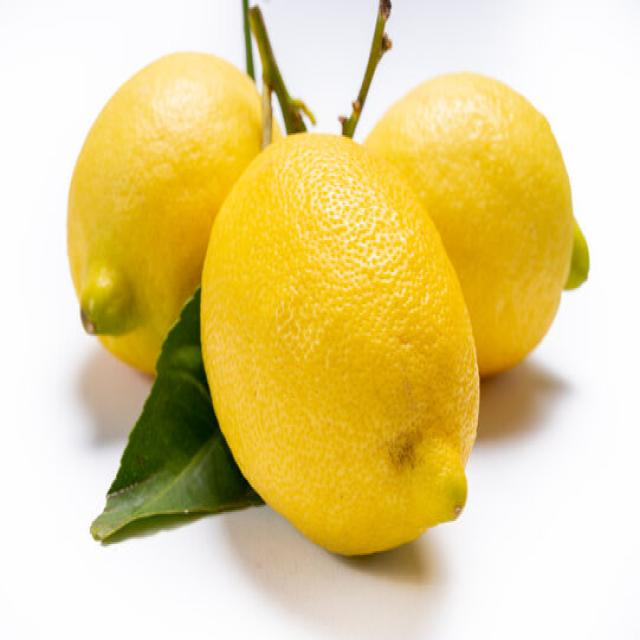Lemon: (199, 130, 480, 556), (65, 48, 282, 377), (362, 69, 587, 377)
